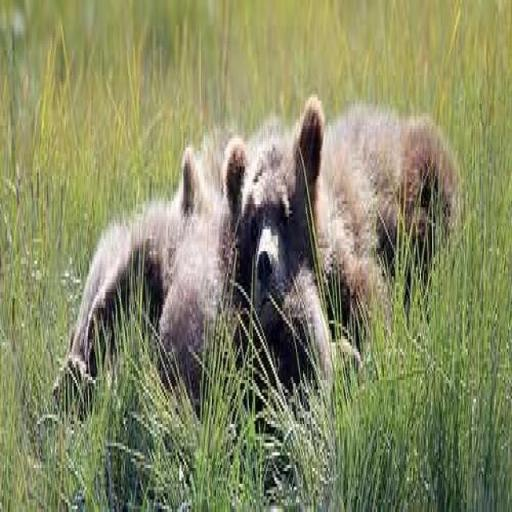Bear: (52, 106, 342, 430)
